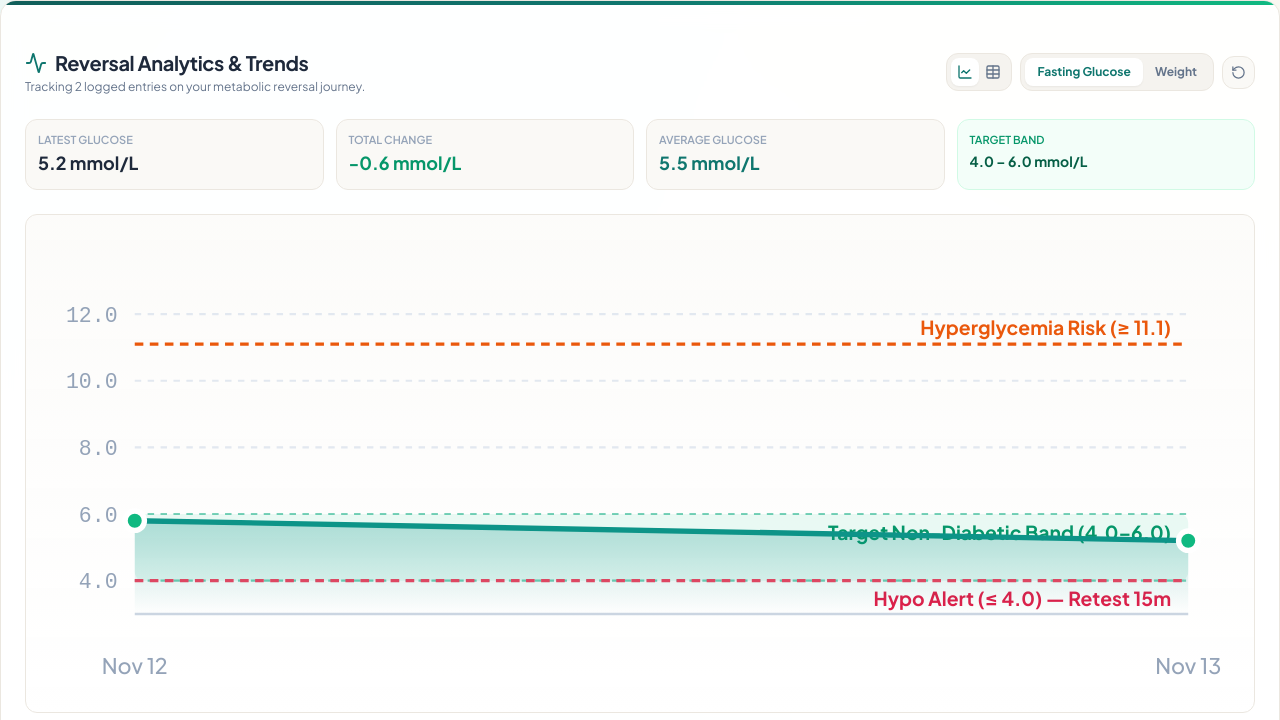
AnalyticsCharts Component › switches to Table View and renders log history table
This screenshot has width=1280, height=720.
Expected: the text "Tracking 2 logged entries" is shown, [25,79,365,94]
Click the button titled "Log History Table" at (994, 72), box [980,58,1008,86]
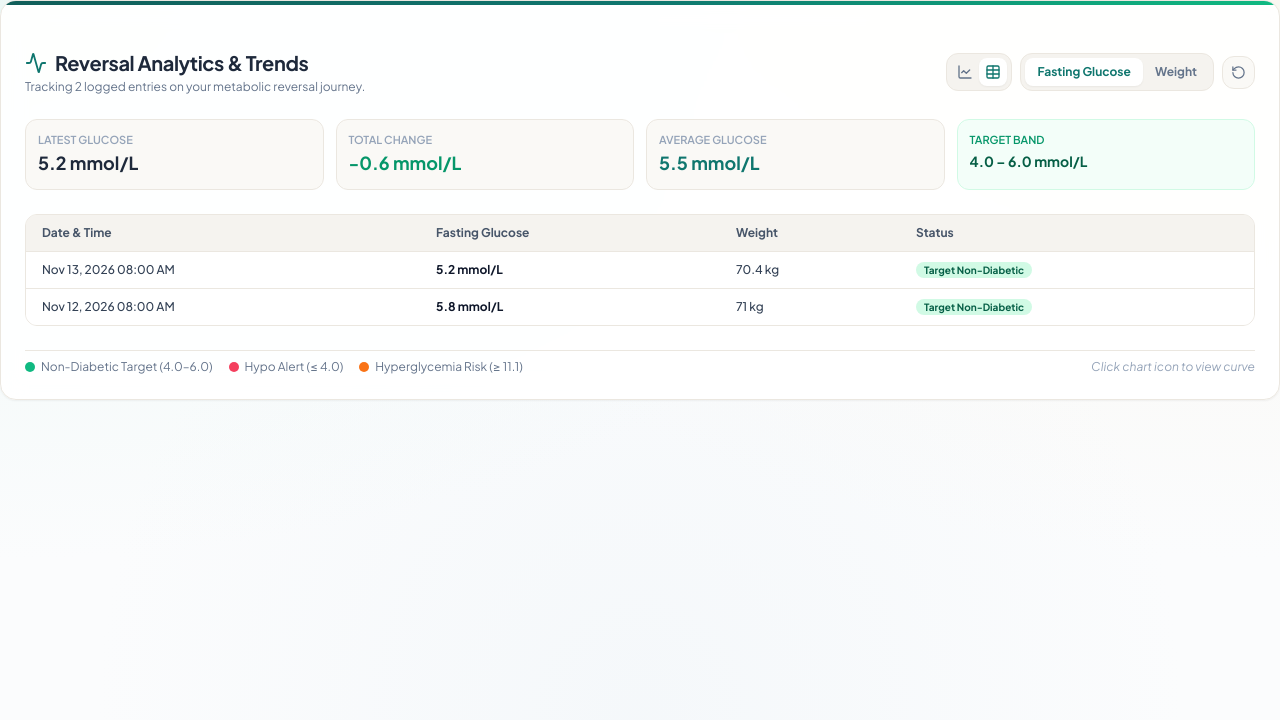
Now the column heading "Fasting Glucose" is shown, box [420,214,720,251]
